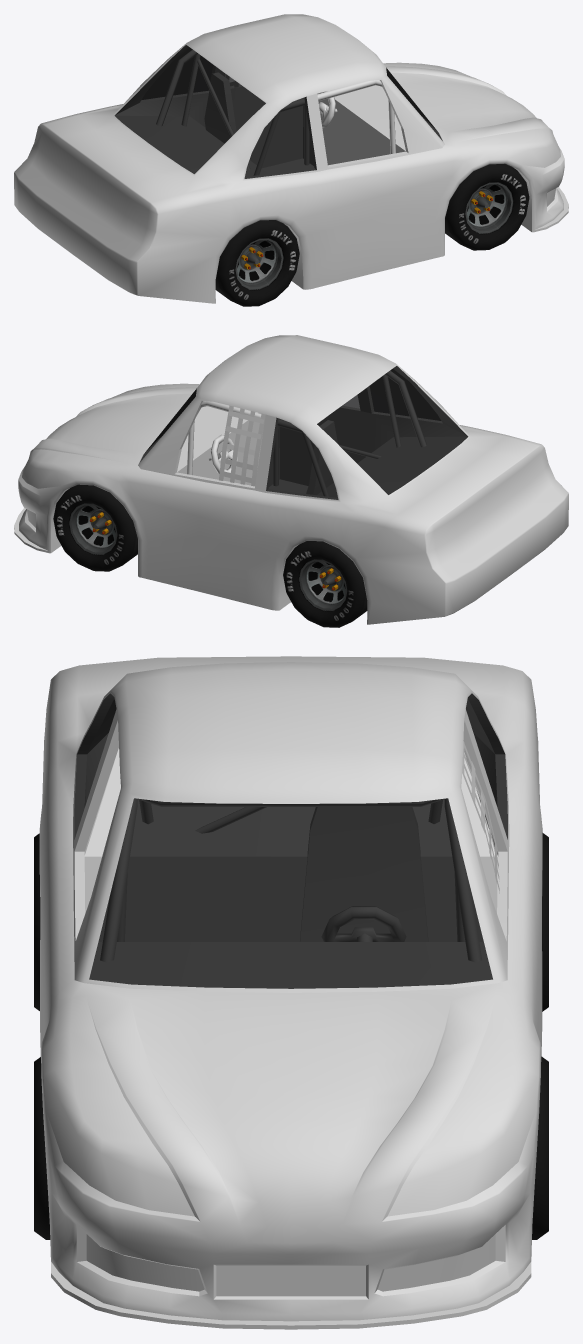
3 views of the same model, one above another, from view 1: azimuth 30°, elevation 25°; view 2: azimuth 150°, elevation 25°; view 3: azimuth 270°, elevation 25° (orthographic). The views are drawn at different scales.
Visible parts, largest first — view 1: CarBody, Glass, TireFrontR, TireRearR; view 2: CarBody, Glass, TireFrontL, TireRearL; view 3: CarBody, Glass, TireFrontL, TireFrontR, TireRearL, TireRearR.
Part boxes in pixels (x1,y1,x2,y2): CarBody: (14,14,568,303); Glass: (114,45,442,178); TireFrontR: (445,163,529,250); TireRearR: (215,220,299,306); CarBody: (14,335,568,624); Glass: (140,366,468,499); TireFrontL: (53,484,137,571); TireRearL: (283,541,367,627); CarBody: (39,656,542,1329); Glass: (74,693,507,988); TireFrontL: (532,1056,548,1239); TireFrontR: (34,1057,50,1239); TireRearL: (542,833,548,1011); TireRearR: (34,833,40,1010).
Size of the model in its own units: 268 by 106 by 127.
